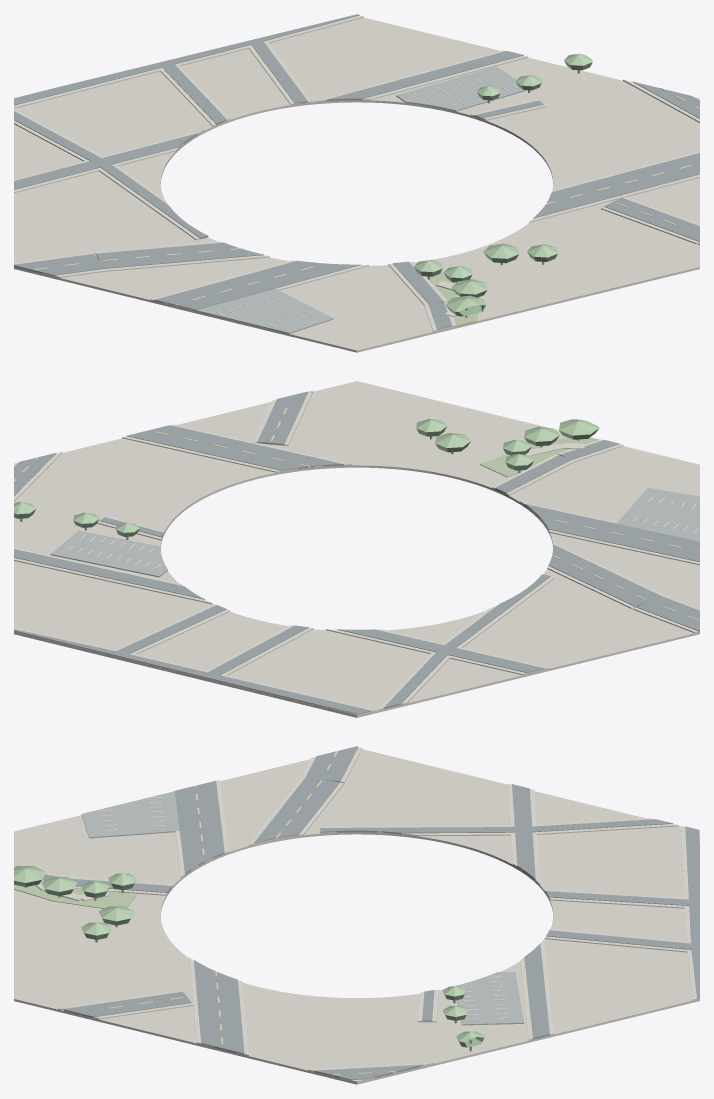
The model's file is surround-P04.glb.
3 views of the same model, one above another, from view 1: azimuth 30°, elevation 25°; view 2: azimuth 150°, elevation 25°; view 3: azimuth 270°, elevation 25° (orthographic).
Parts seen in each view (by area): view 1: P04_neutral, P04_road, P04_pave, P04_parking, P04_tree2, P04_tree, P04_grass, P04_lane; view 2: P04_neutral, P04_road, P04_pave, P04_parking, P04_tree2, P04_tree, P04_grass; view 3: P04_neutral, P04_road, P04_pave, P04_parking, P04_tree2, P04_grass, P04_tree.
Part boxes in pixels (x1=…): P04_neutral: x1=14, y1=17, x2=699, y2=352; P04_road: x1=14, y1=14, x2=699, y2=329; P04_pave: x1=14, y1=15, x2=699, y2=331; P04_parking: x1=194, y1=66, x2=527, y2=333; P04_tree2: x1=414, y1=54, x2=592, y2=311; P04_tree: x1=414, y1=60, x2=592, y2=316; P04_grass: x1=430, y1=271, x2=479, y2=326; P04_lane: x1=34, y1=88, x2=699, y2=306; P04_neutral: x1=14, y1=381, x2=699, y2=717; P04_road: x1=14, y1=391, x2=699, y2=714; P04_pave: x1=14, y1=390, x2=699, y2=715; P04_parking: x1=50, y1=487, x2=699, y2=577; P04_tree2: x1=14, y1=419, x2=599, y2=532; P04_tree: x1=14, y1=427, x2=598, y2=536; P04_grass: x1=480, y1=437, x2=599, y2=477; P04_neutral: x1=14, y1=749, x2=699, y2=1084; P04_road: x1=42, y1=746, x2=699, y2=1079; P04_pave: x1=35, y1=747, x2=699, y2=1082; P04_parking: x1=81, y1=791, x2=523, y2=1025; P04_tree2: x1=14, y1=866, x2=484, y2=1042; P04_grass: x1=14, y1=884, x2=136, y2=908; P04_tree: x1=14, y1=880, x2=484, y2=1047.
Bounding box in the file's own units: 16.17 × 0.4889 × 14.
